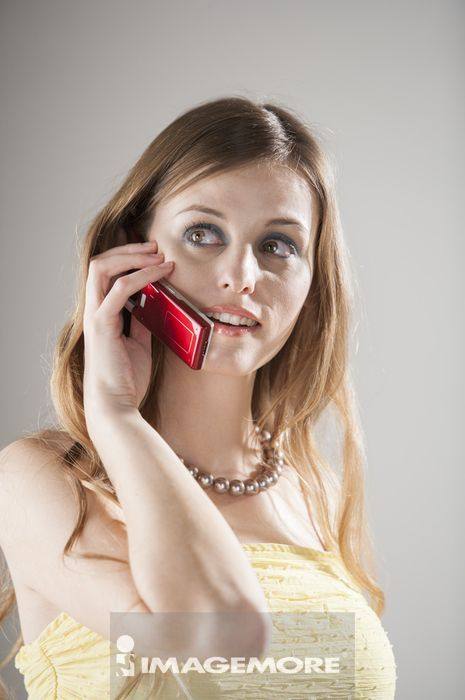talk: (77, 198, 311, 441)
